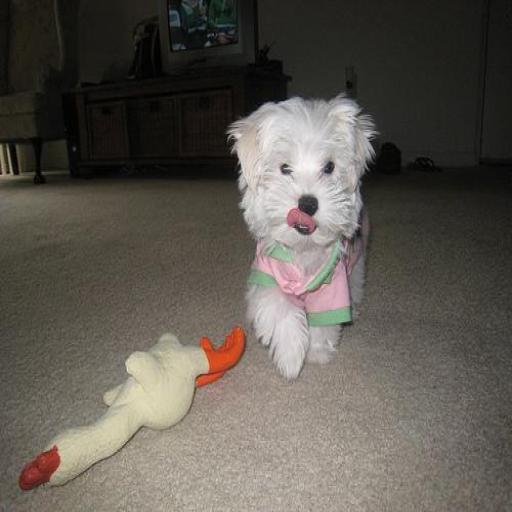dog_face: (233, 93, 379, 252)
